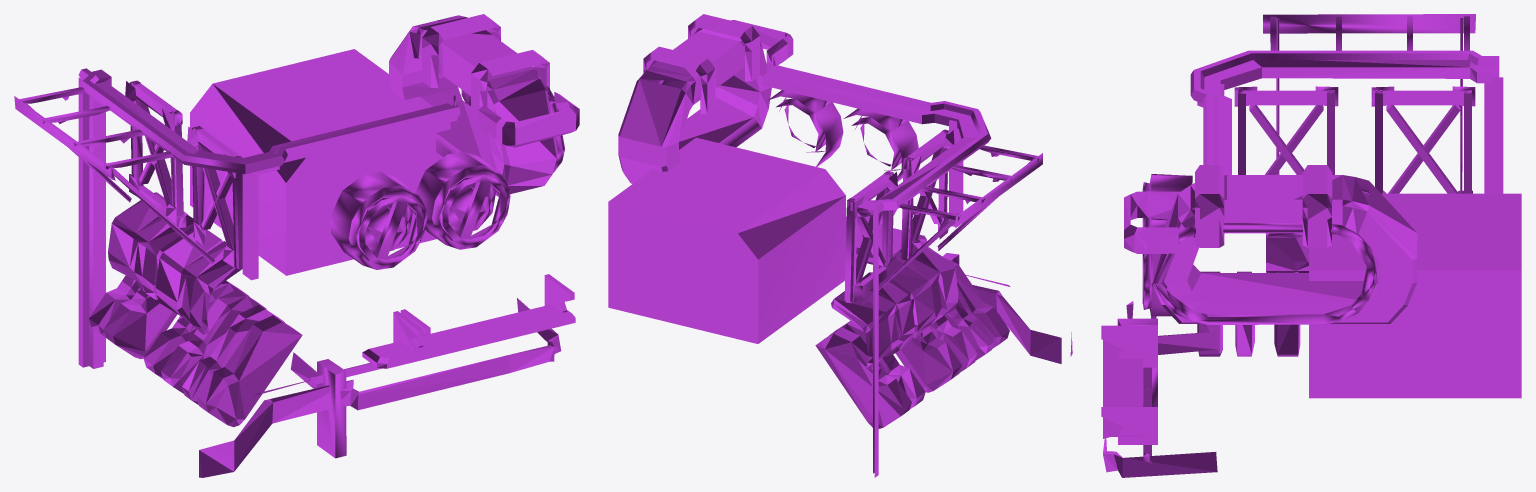
Rendered from backdrop_top_e_lod1.glb.
The picture shows the model from 3 angles, left to right: view 1: azimuth 30°, elevation 25°; view 2: azimuth 150°, elevation 25°; view 3: azimuth 270°, elevation 25°; orthographic projection. The views are drawn at different scales.
Bounding box in the file's own units: 62.08 × 47.43 × 49.7.
